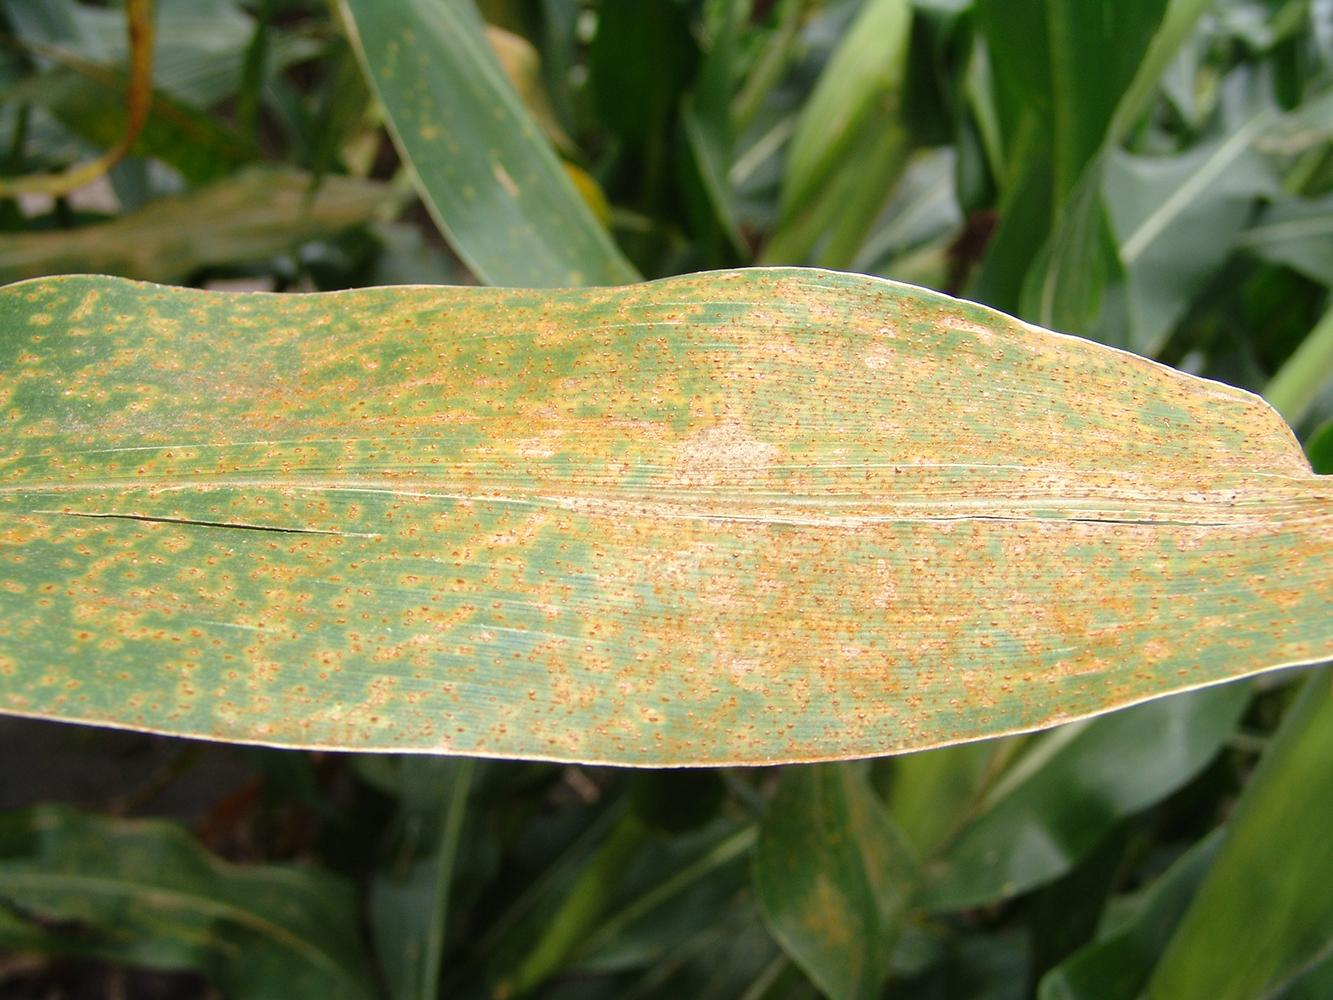Corn rust leaf: (2, 270, 1333, 778)
